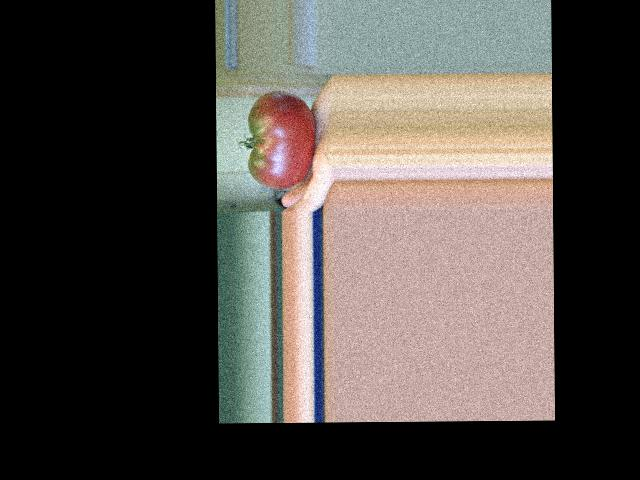tomato: (247, 90, 316, 189)
